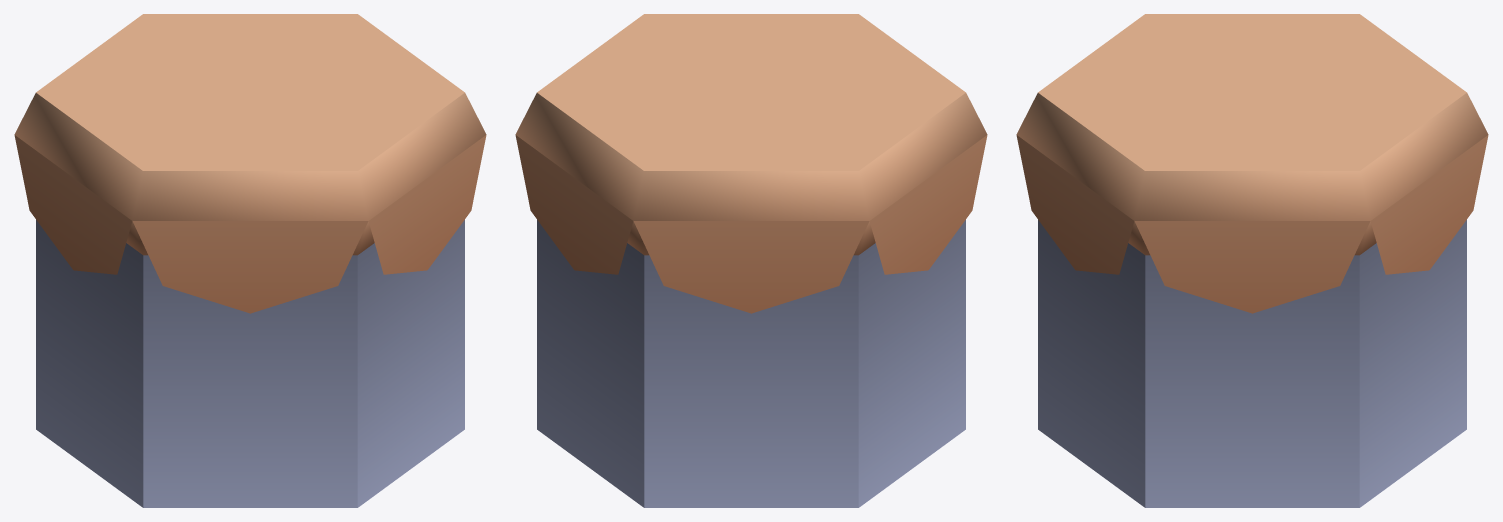
The model's file is block-grass-overhang-hexagon.glb.
3 renders of one model, left to right at view 1: azimuth 30°, elevation 25°; view 2: azimuth 150°, elevation 25°; view 3: azimuth 270°, elevation 25°, orthographic.
Visible parts, largest first — view 1: block-grass-overhang-hexagon; view 2: block-grass-overhang-hexagon; view 3: block-grass-overhang-hexagon.
Part boxes in pixels (left/top/right/bottom): block-grass-overhang-hexagon: left=14, top=14, right=486, bottom=507; block-grass-overhang-hexagon: left=515, top=14, right=987, bottom=507; block-grass-overhang-hexagon: left=1016, top=14, right=1488, bottom=507.
Size of the model in its own units: 1.1 by 1 by 1.27.
